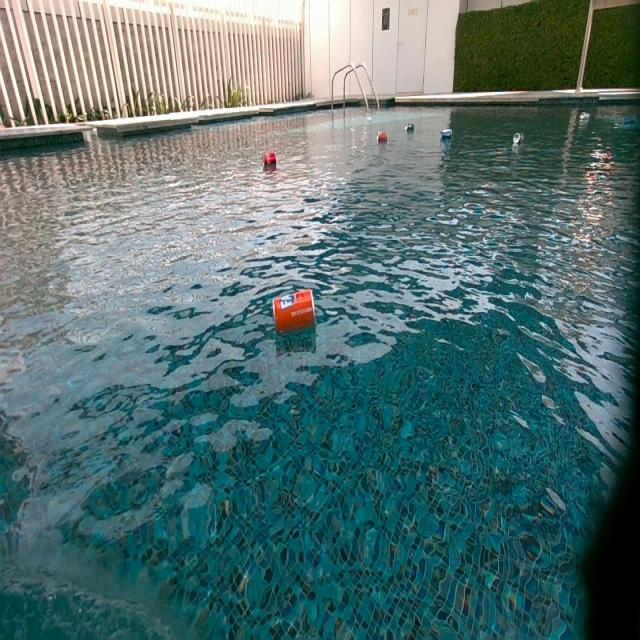Cans: (272, 290, 314, 337), (264, 154, 278, 170), (622, 116, 638, 129), (513, 133, 525, 146), (578, 110, 590, 123), (377, 132, 389, 144), (441, 130, 454, 141), (406, 122, 415, 131)
